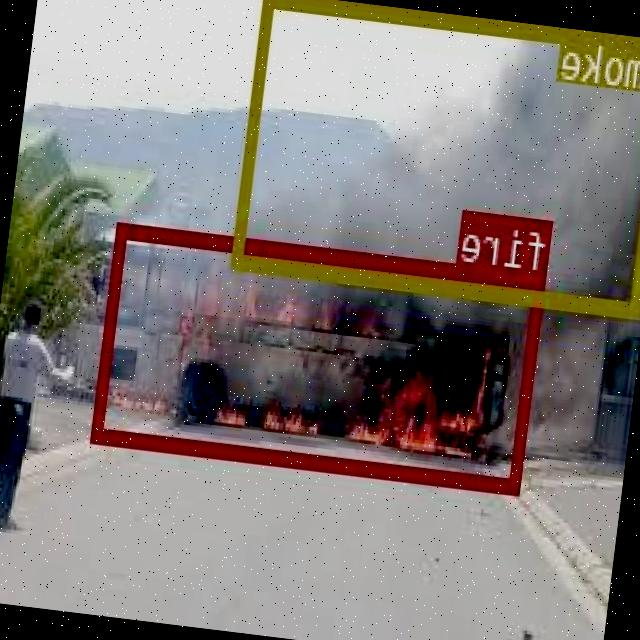fire: (92, 220, 546, 492)
smoke: (234, 0, 640, 313)
